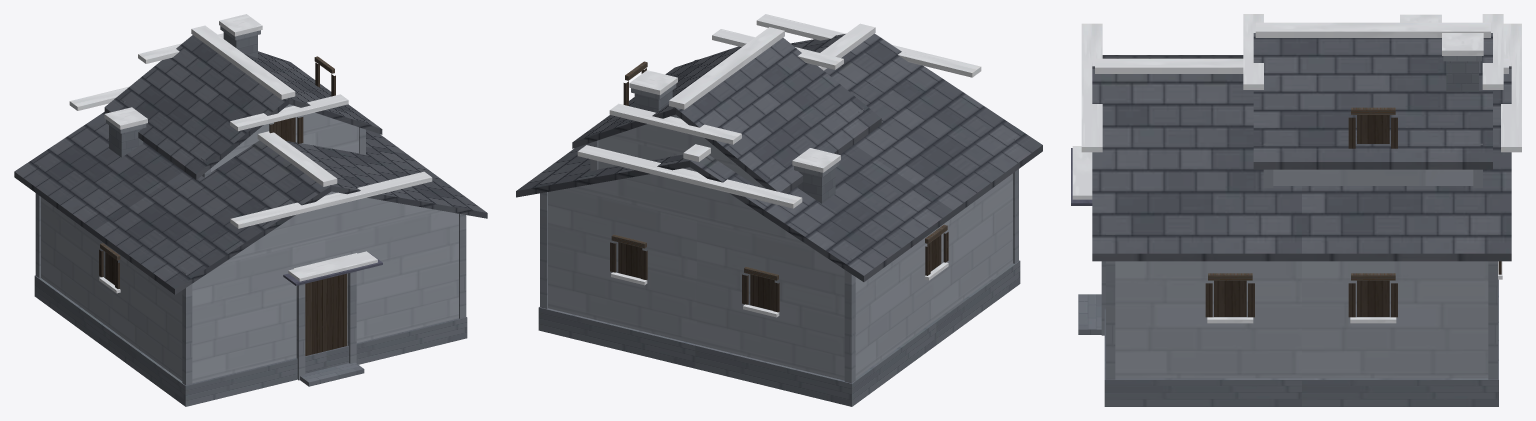
Rendered from ae_snow_stone_large_terrace_lod0.glb.
The picture shows the model from 3 angles, left to right: view 1: azimuth 30°, elevation 25°; view 2: azimuth 150°, elevation 25°; view 3: azimuth 270°, elevation 25°; orthographic projection. The views are drawn at different scales.
Parts seen in each view (by area): view 1: ae_snow_stone_large_terrace_lod0; view 2: ae_snow_stone_large_terrace_lod0; view 3: ae_snow_stone_large_terrace_lod0.
Part boxes in pixels (x1,y1,x2,y2): ae_snow_stone_large_terrace_lod0: (14,14,487,406); ae_snow_stone_large_terrace_lod0: (516,14,1042,406); ae_snow_stone_large_terrace_lod0: (1071,14,1521,406).
Bounding box in the file's own units: 7.9 × 5.71 × 7.57.
1 material, 1 textured.
